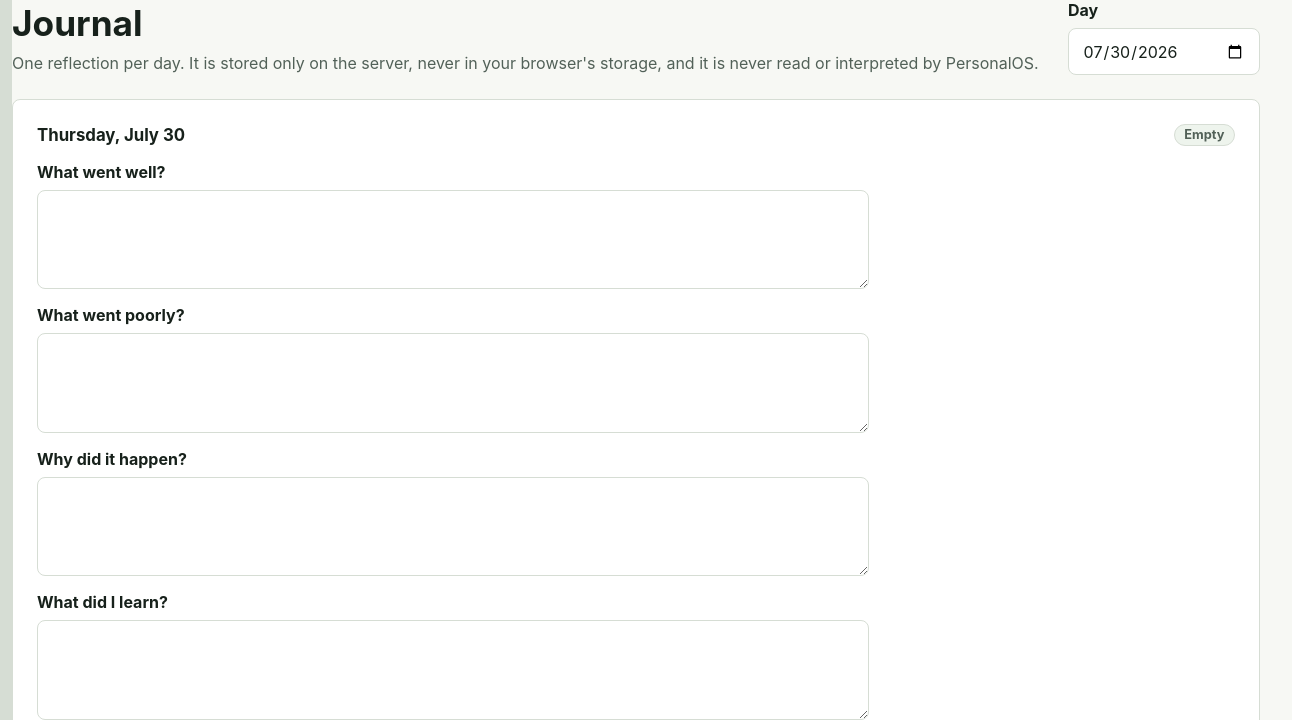
it: JournalComponent › keeps Save disabled until something changes
This screenshot has width=1292, height=720.
In the text box with id "went-well": [453, 240] box [37,190,869,289], type "A good day."
(page scrolled)
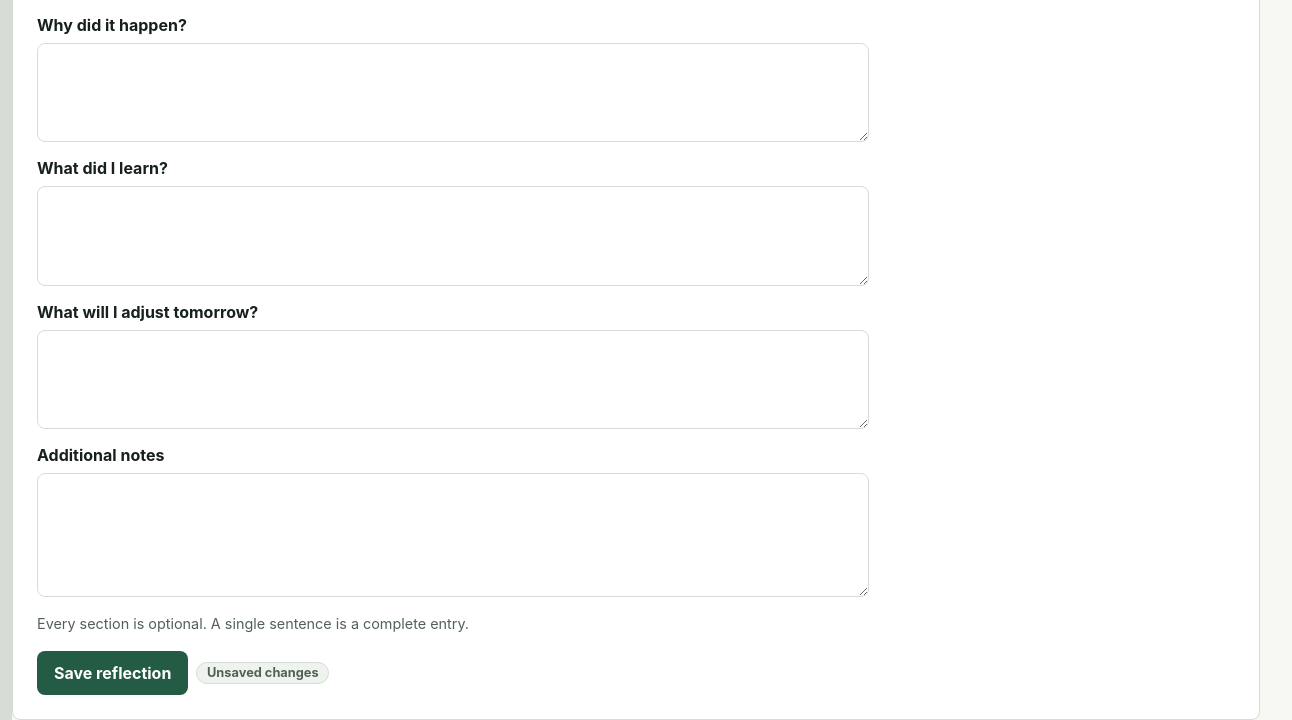
Expected: the submit button is enabled, [37,651,188,695]
